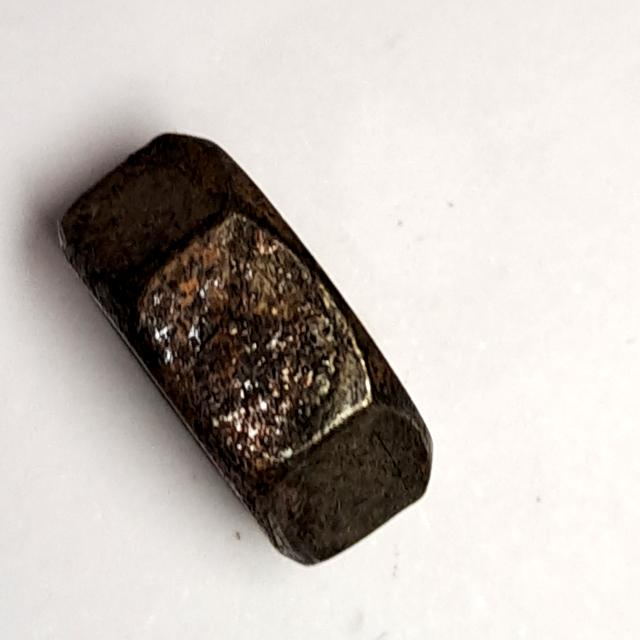Side_Rust: (32, 102, 465, 584)
